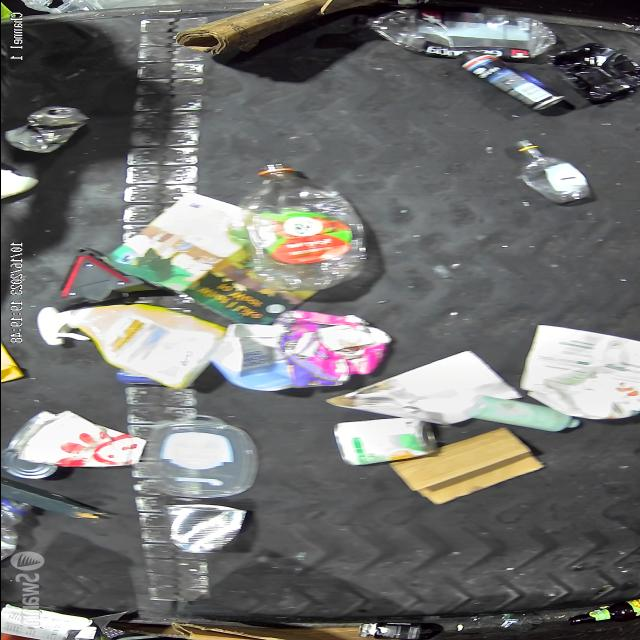can: (451, 54, 563, 112), (332, 417, 439, 467), (161, 504, 251, 554), (0, 105, 89, 154), (0, 448, 60, 481)
non_white_jug: (34, 305, 230, 391)
plastic_bottle: (236, 160, 366, 294), (342, 8, 562, 62), (510, 138, 596, 204), (0, 499, 34, 561)
